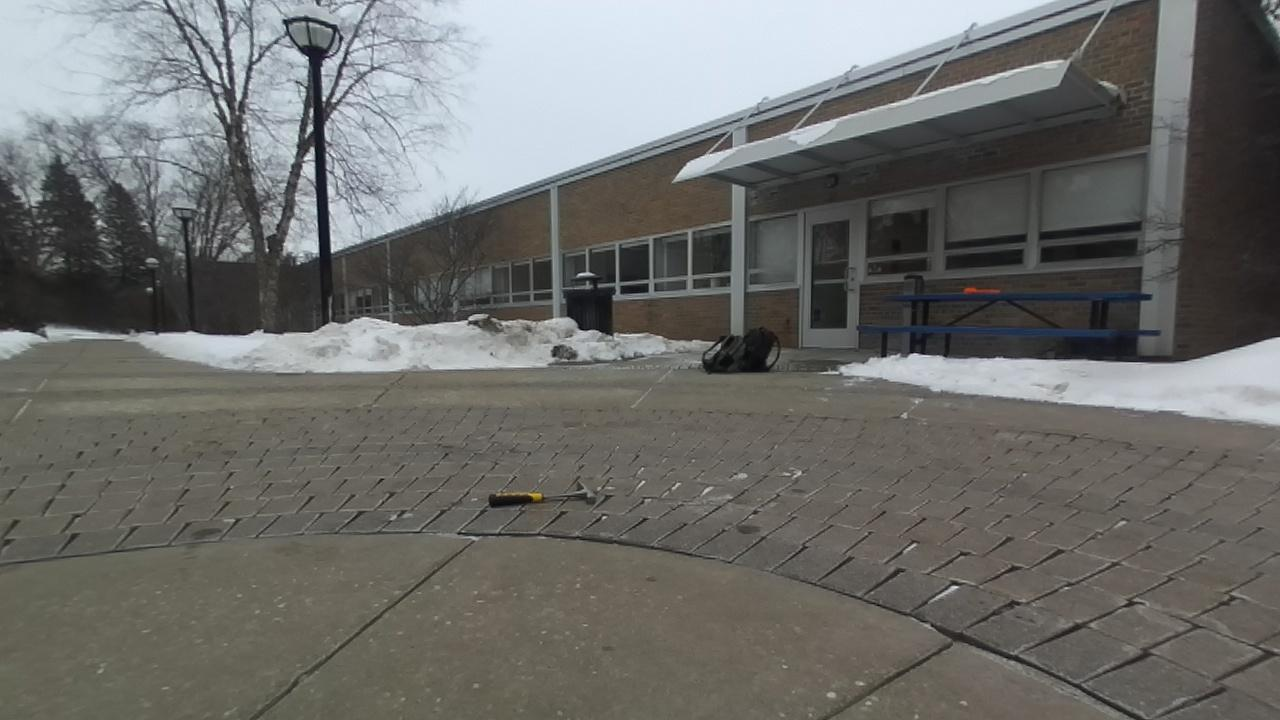pick: (490, 480, 600, 507)
